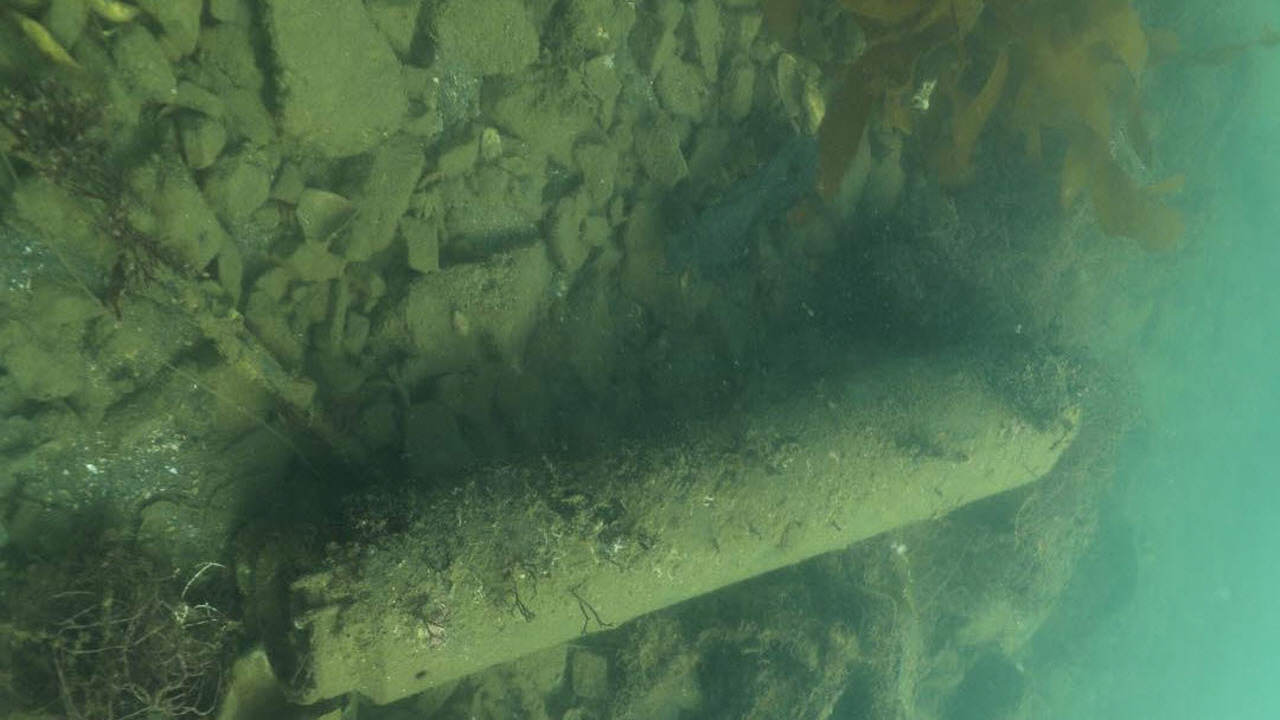eel fish trap: (252, 333, 1085, 706)
